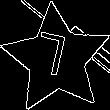L_S: (36, 31, 77, 87)
